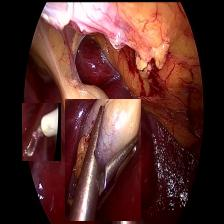Grasper: (64, 98, 140, 220)
Hook: (21, 102, 59, 160)
